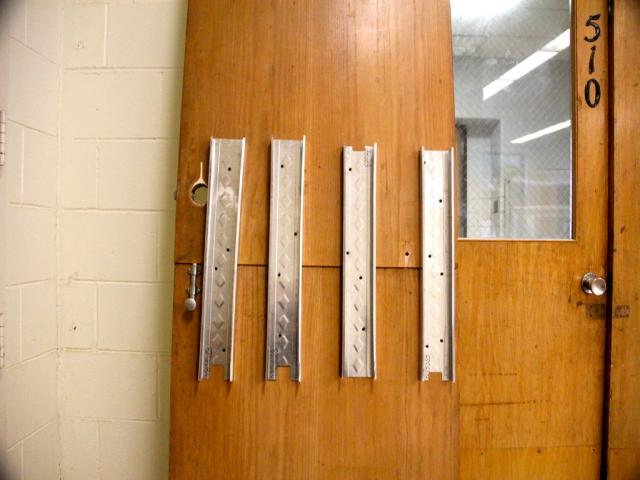Door-handle: (184, 262, 199, 310), (579, 272, 605, 295)
